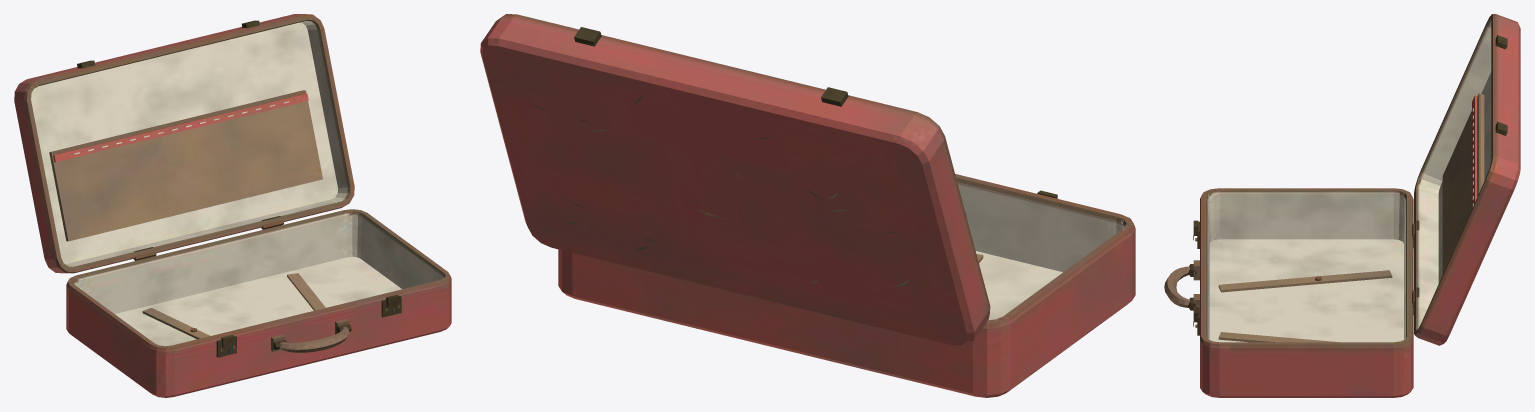
The model's file is B14_old_suitcase_v3.glb.
3 views of the same model, side by side, from view 1: azimuth 30°, elevation 25°; view 2: azimuth 150°, elevation 25°; view 3: azimuth 270°, elevation 25° (orthographic). The views are drawn at different scales.
Visible parts, largest first — view 1: Open red suitcase; view 2: Open red suitcase; view 3: Open red suitcase.
Part boxes in pixels (left/top/right/bottom): Open red suitcase: left=14, top=14, right=451, bottom=397; Open red suitcase: left=480, top=14, right=1135, bottom=397; Open red suitcase: left=1164, top=14, right=1520, bottom=397.
Size of the model in its own units: 0.6 by 0.4344 by 0.5747.
9 materials, 9 textured.
